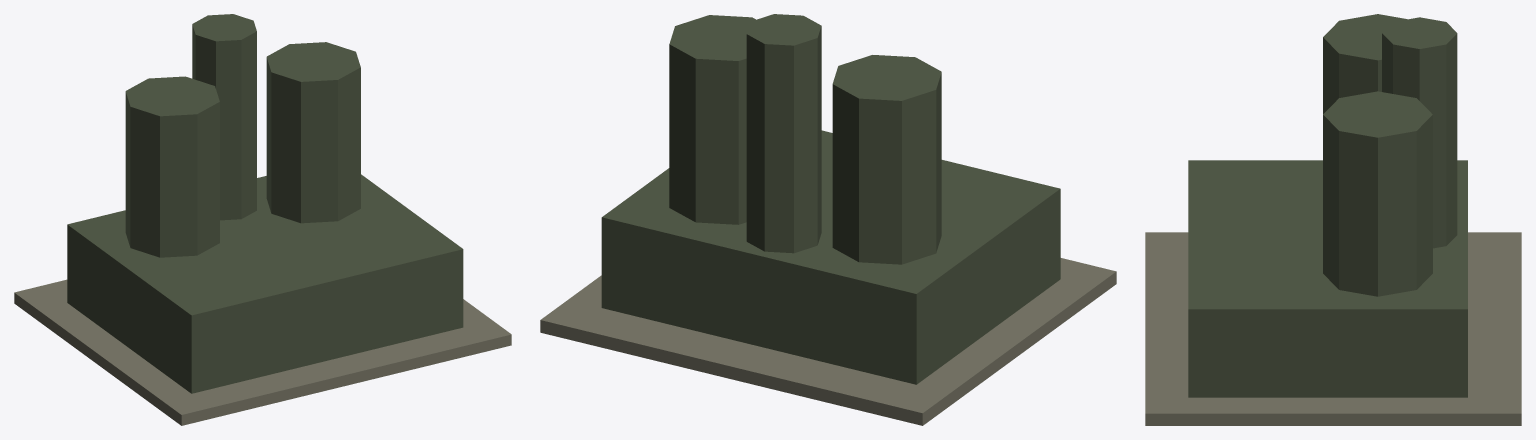
File: Bastion_LargePowerPlant_LOD1.obj
The picture shows the model from 3 angles, left to right: view 1: azimuth 30°, elevation 25°; view 2: azimuth 150°, elevation 25°; view 3: azimuth 270°, elevation 25°; orthographic projection. The views are drawn at different scales.
Visible parts, largest first — view 1: Bastion_LargePowerPlant_LOD1; view 2: Bastion_LargePowerPlant_LOD1; view 3: Bastion_LargePowerPlant_LOD1.
Boxes of the visible parts, x1,y1,x2,y2 form: Bastion_LargePowerPlant_LOD1: [14, 14, 511, 425]; Bastion_LargePowerPlant_LOD1: [540, 14, 1116, 425]; Bastion_LargePowerPlant_LOD1: [1145, 14, 1521, 425].
Bounding box in the file's own units: 8.2 × 6.38 × 7.2.
Materials: 1 (1 with a texture image).
